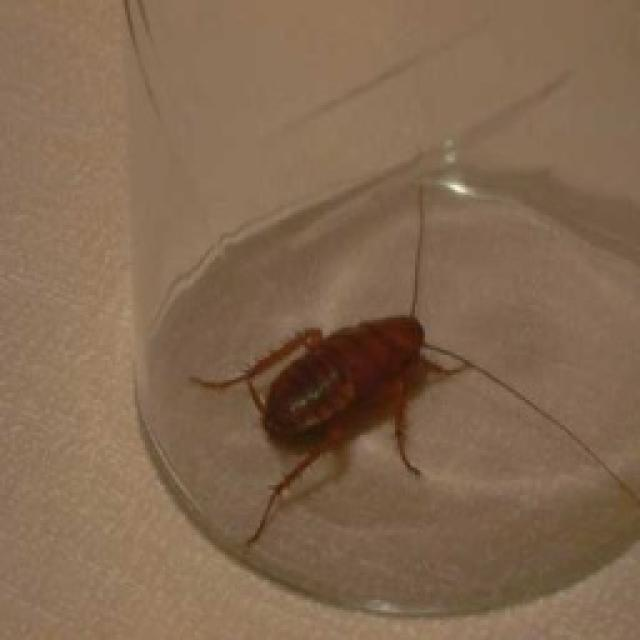cockroach: (256, 301, 446, 449)
